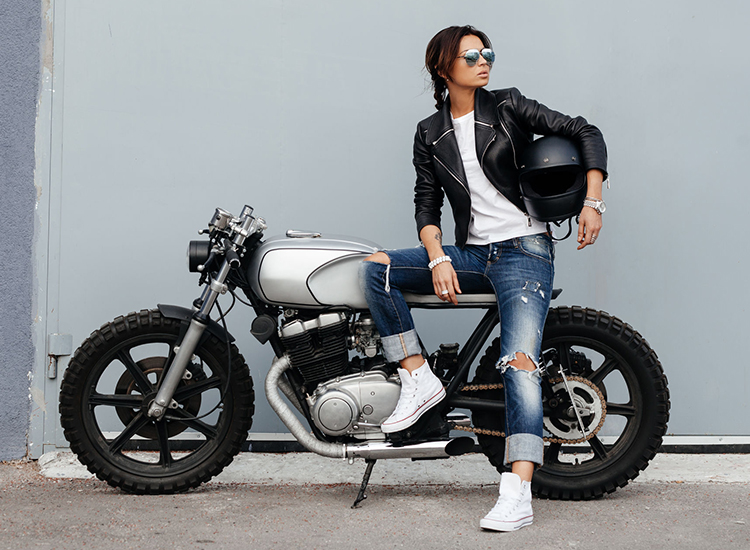with_helmet: (524, 138, 595, 216)
